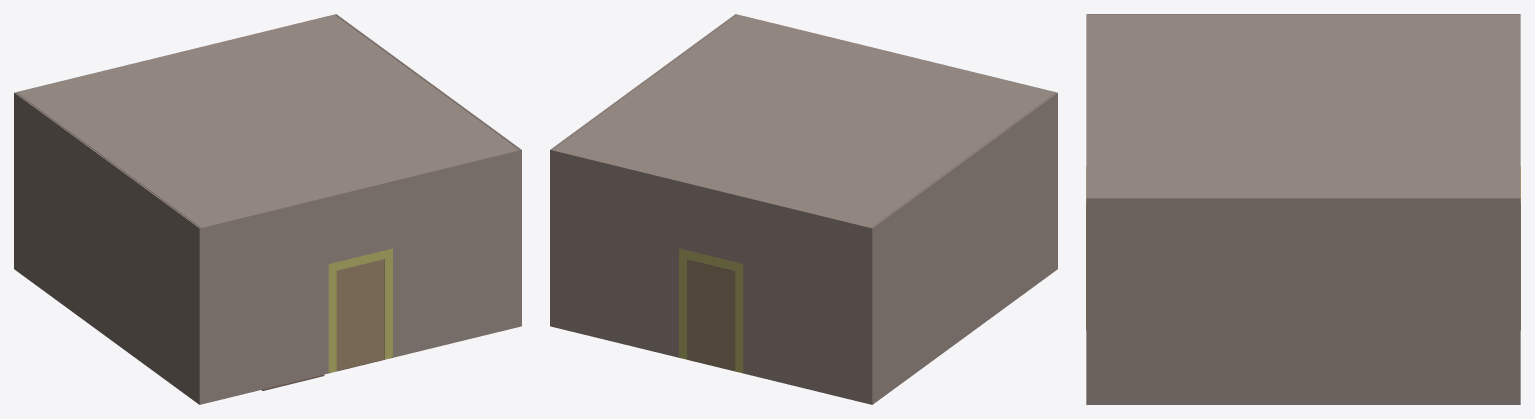
Rendered from Room38_ResearchLaboratory.fbx.
The picture shows the model from 3 angles, left to right: view 1: azimuth 30°, elevation 25°; view 2: azimuth 150°, elevation 25°; view 3: azimuth 270°, elevation 25°; orthographic projection. The views are drawn at different scales.
Visible parts, largest first — view 1: Roof, WallSlicedPosZ, WallPosX, DoorPosZ, DoorFramePosZ, WallNegX; view 2: Roof, WallSlicedNegZ, WallPosX, DoorNegZ, DoorFrameNegZ, WallNegX; view 3: WallNegX, Roof, WallPosX.
Part boxes in pixels (x1=…): Roof: x1=17, y1=15, x2=518, y2=227; WallSlicedPosZ: x1=199, y1=149, x2=521, y2=404; WallPosX: x1=14, y1=92, x2=201, y2=404; DoorPosZ: x1=336, y1=259, x2=384, y2=370; DoorFramePosZ: x1=328, y1=248, x2=392, y2=372; WallNegX: x1=336, y1=14, x2=521, y2=326; Roof: x1=553, y1=15, x2=1054, y2=227; WallSlicedNegZ: x1=550, y1=149, x2=872, y2=404; WallPosX: x1=870, y1=92, x2=1057, y2=404; DoorNegZ: x1=687, y1=259, x2=735, y2=370; DoorFrameNegZ: x1=679, y1=248, x2=743, y2=372; WallNegX: x1=550, y1=14, x2=735, y2=326; WallNegX: x1=1086, y1=197, x2=1520, y2=404; Roof: x1=1088, y1=15, x2=1518, y2=197; WallPosX: x1=1086, y1=14, x2=1520, y2=14.
Size of the model in its own units: 100 by 53.31 by 100.
